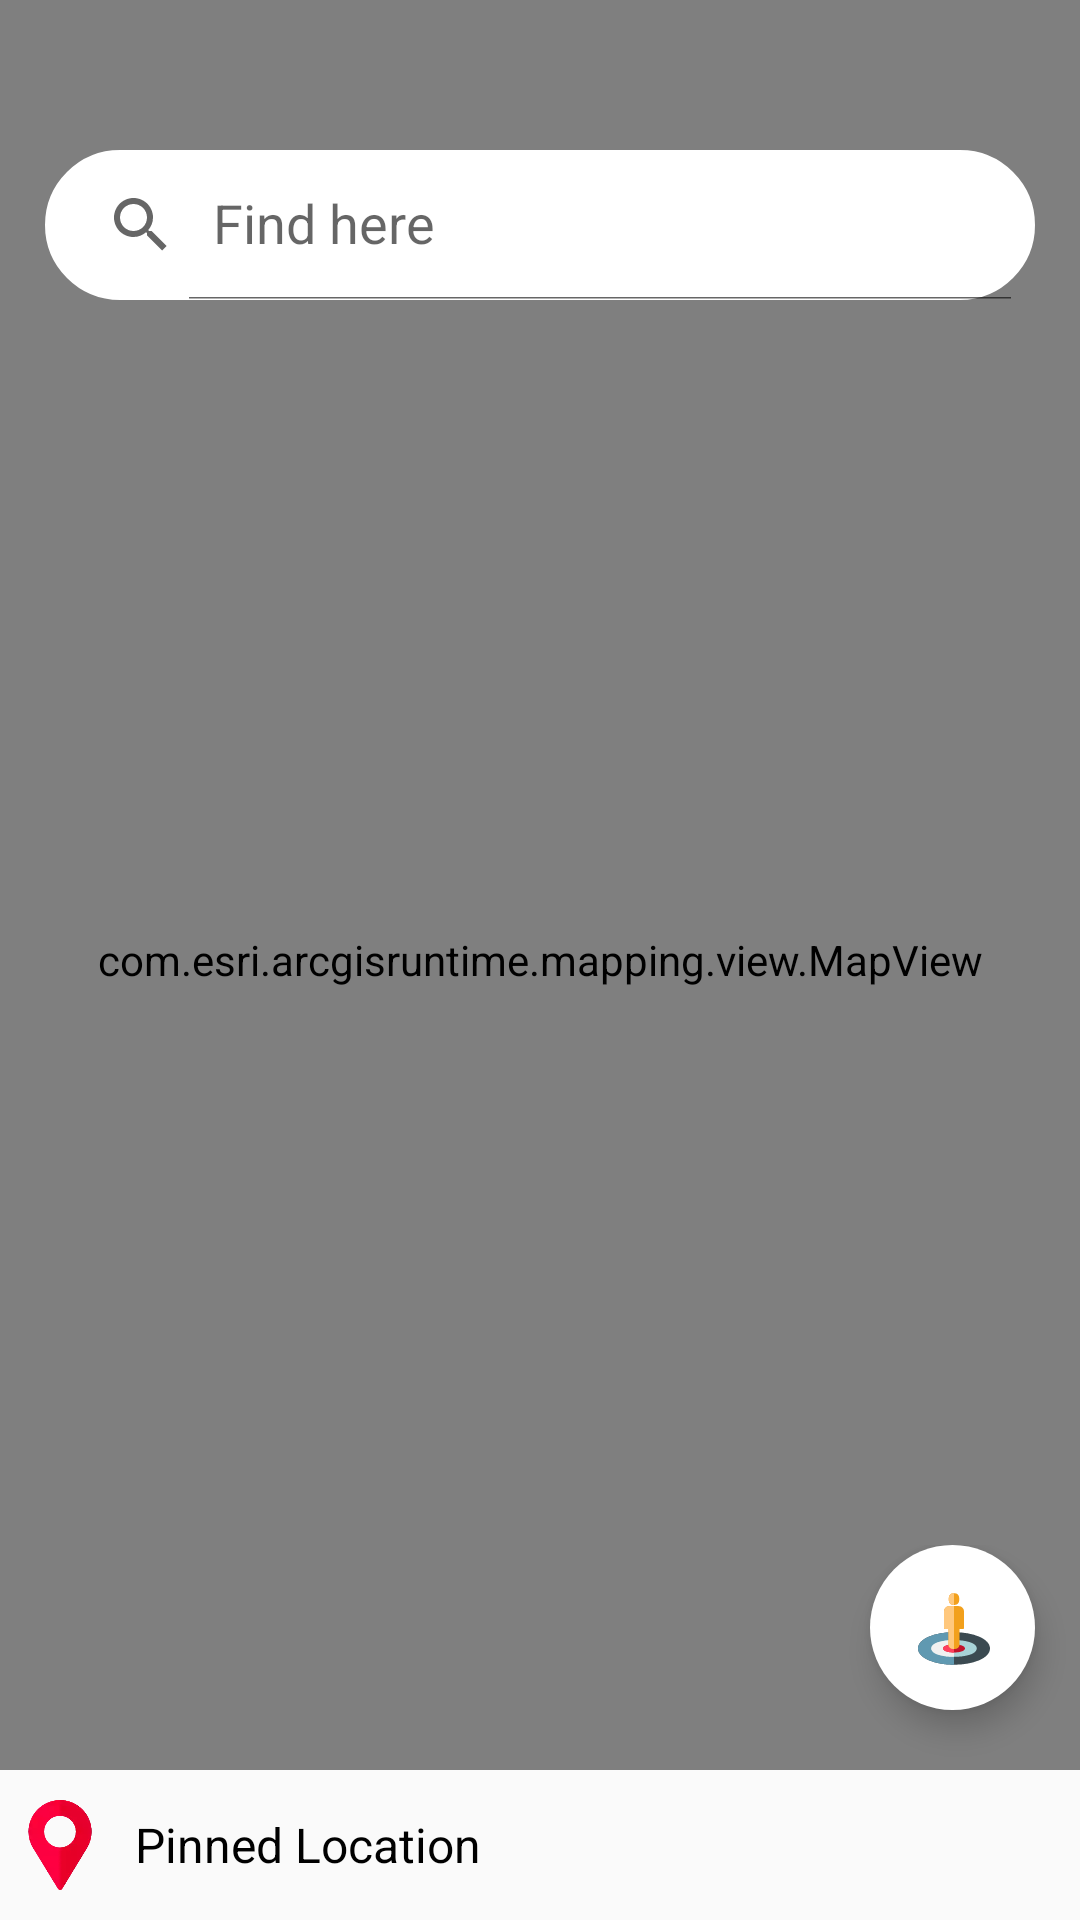

Icon bounding boxes for this 1080 x 1920 phone screenshot, format (x1, y1, x2, y2):
Find your location: (870, 1545, 1035, 1710)
